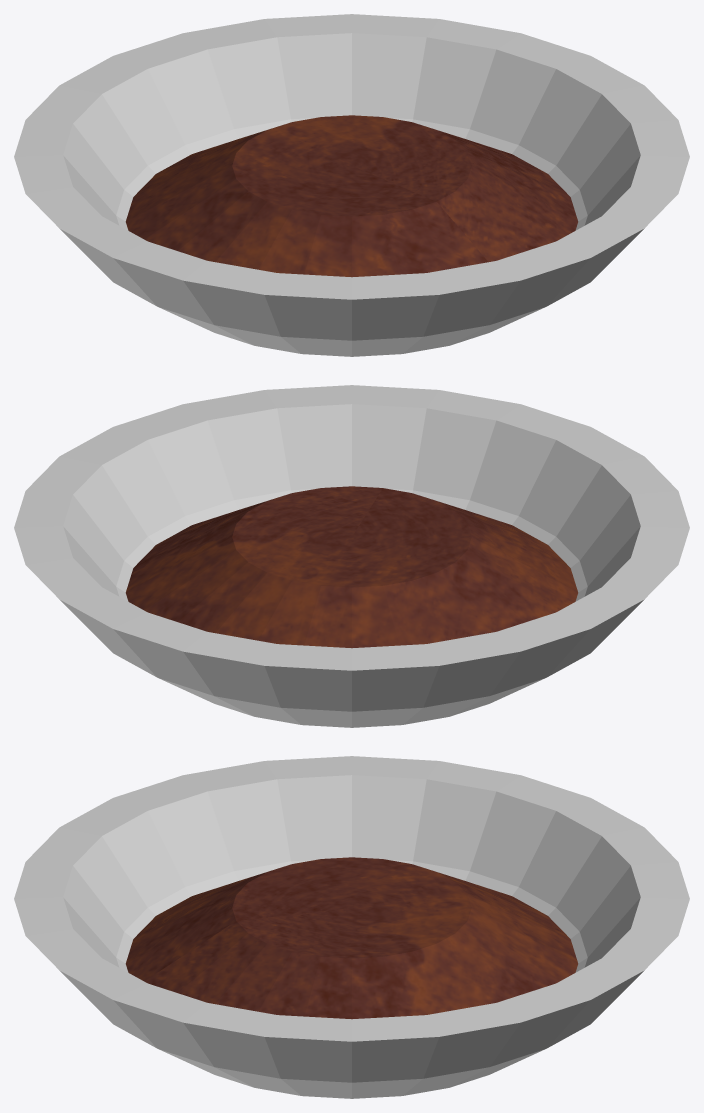
File: PinchBowl.FBX
3 views of the same model, one above another, from view 1: azimuth 30°, elevation 25°; view 2: azimuth 150°, elevation 25°; view 3: azimuth 270°, elevation 25° (orthographic).
Visible parts, largest first — view 1: Object027; view 2: Object027; view 3: Object027.
Boxes of the visible parts, x1,y1,x2,y2 form: Object027: (14, 14, 689, 356); Object027: (14, 385, 689, 727); Object027: (14, 756, 689, 1098).
Size of the model in its own units: 27.64 by 5.39 by 27.64.
